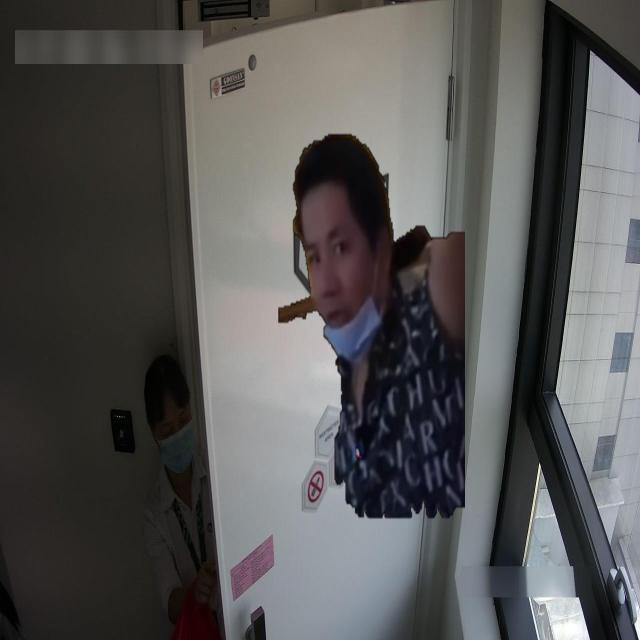hairnet: (302, 224, 382, 360)
